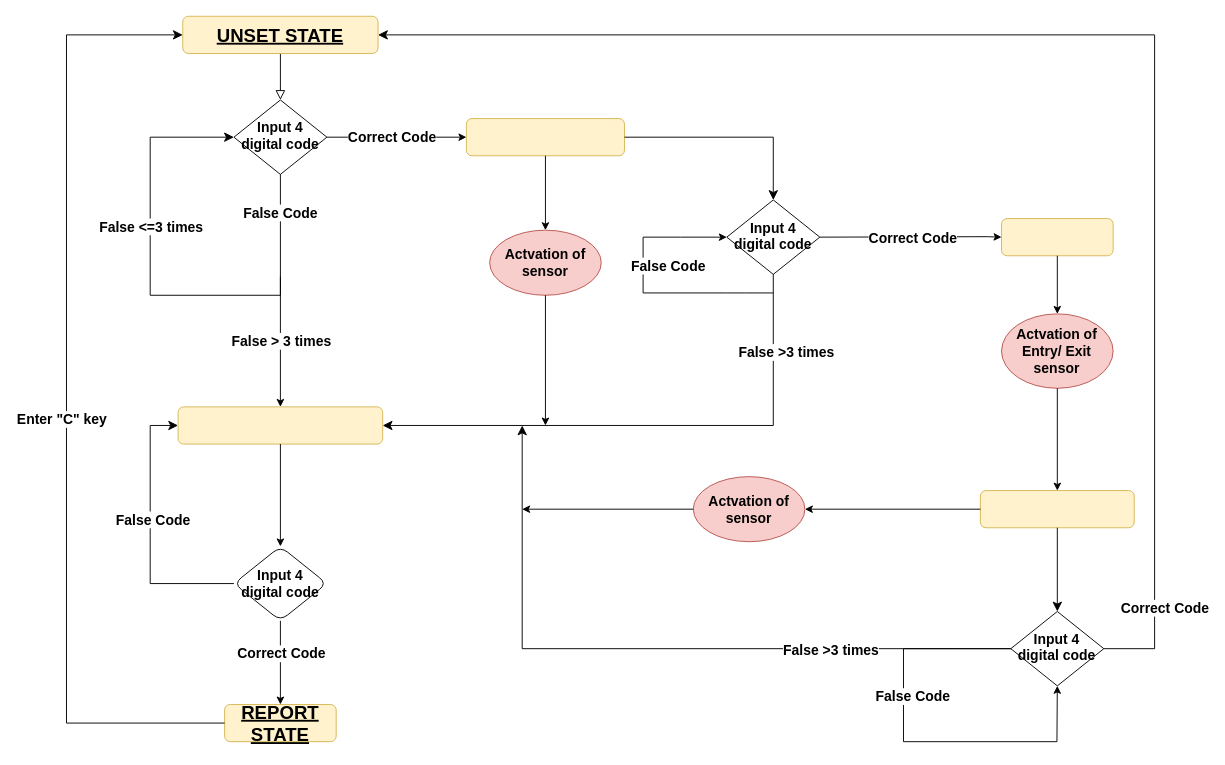
Image size: 1225x765. Some labels were removed from this diagram. The centre of each missing label's shape, as x and y in pixels:
ALARM STATE: pixel 280 425
ENTRY STATE: pixel 1056 509
EXIT STATE: pixel 544 137
SET STATE: pixel 1057 237
